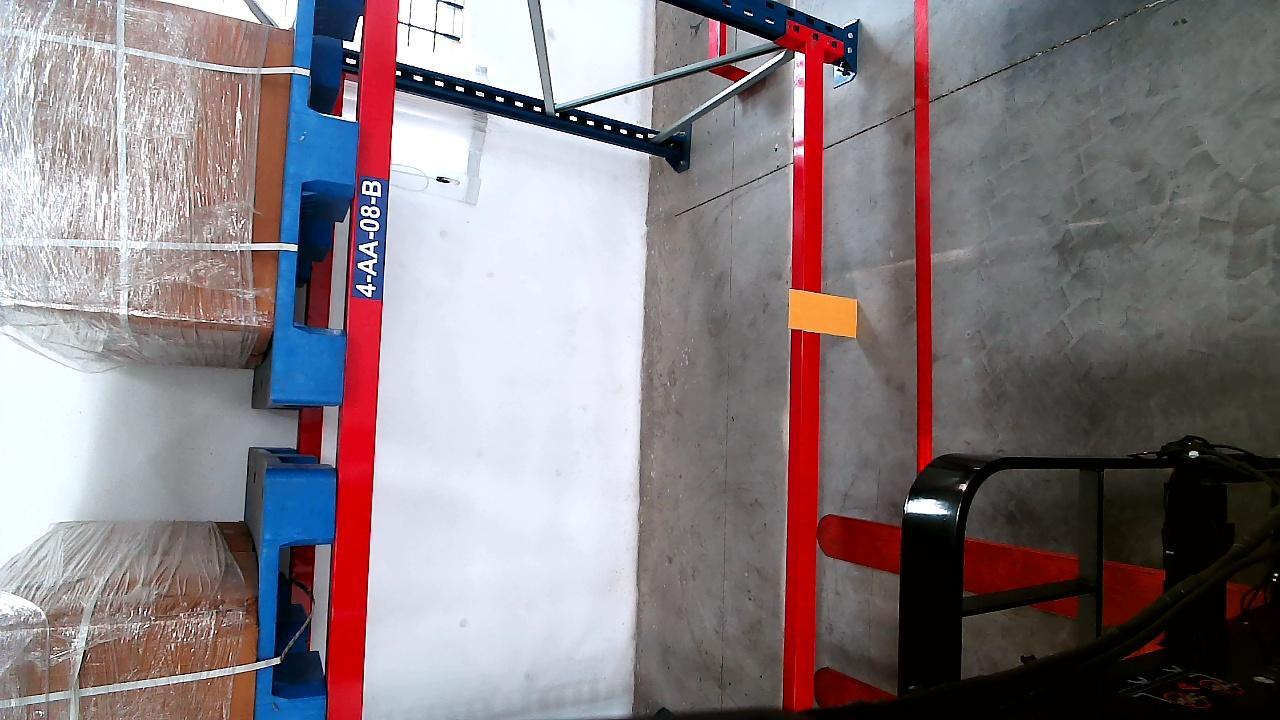red_line: (909, 2, 939, 471)
